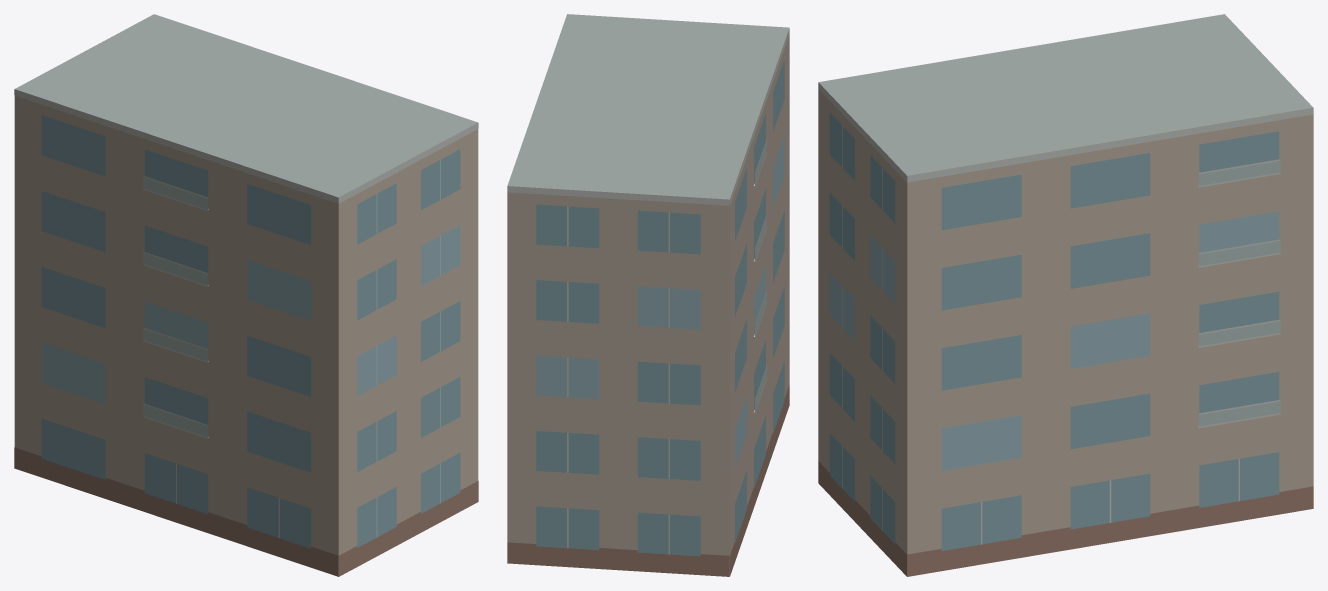
Rendered from survey-upis-32886634.glb.
3 renders of one model, left to right at view 1: azimuth 30°, elevation 25°; view 2: azimuth 150°, elevation 25°; view 3: azimuth 270°, elevation 25°, orthographic. The views are drawn at different scales.
Parts seen in each view (by area): view 1: survey-upis-32886634.tmp; view 2: survey-upis-32886634.tmp; view 3: survey-upis-32886634.tmp.
Part boxes in pixels (x1,y1,x2,y2): survey-upis-32886634.tmp: [14, 14, 478, 576]; survey-upis-32886634.tmp: [507, 14, 789, 576]; survey-upis-32886634.tmp: [818, 14, 1313, 576].
Size of the model in its own units: 12.73 by 14.7 by 16.46.
